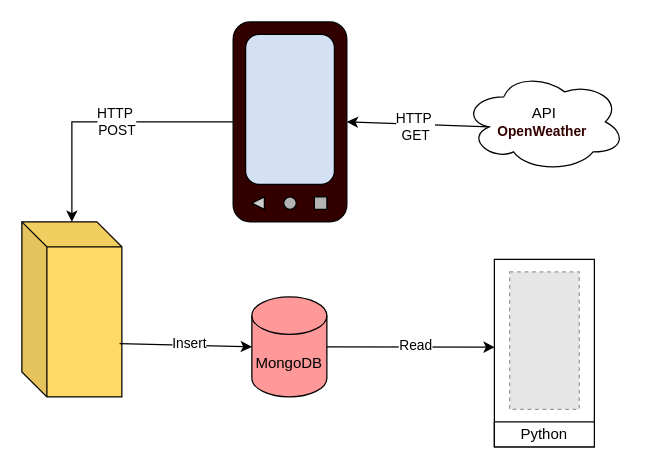
The diagram is 648 pixels wide and 469 high, and some of its shapes have lost their labels. Grey dashed boxes stand in for pictures. The centre of each missing label's shape, as x and y in pixels:
"API Java" goes at point 71,309.
"React Native" goes at point 289,108.
